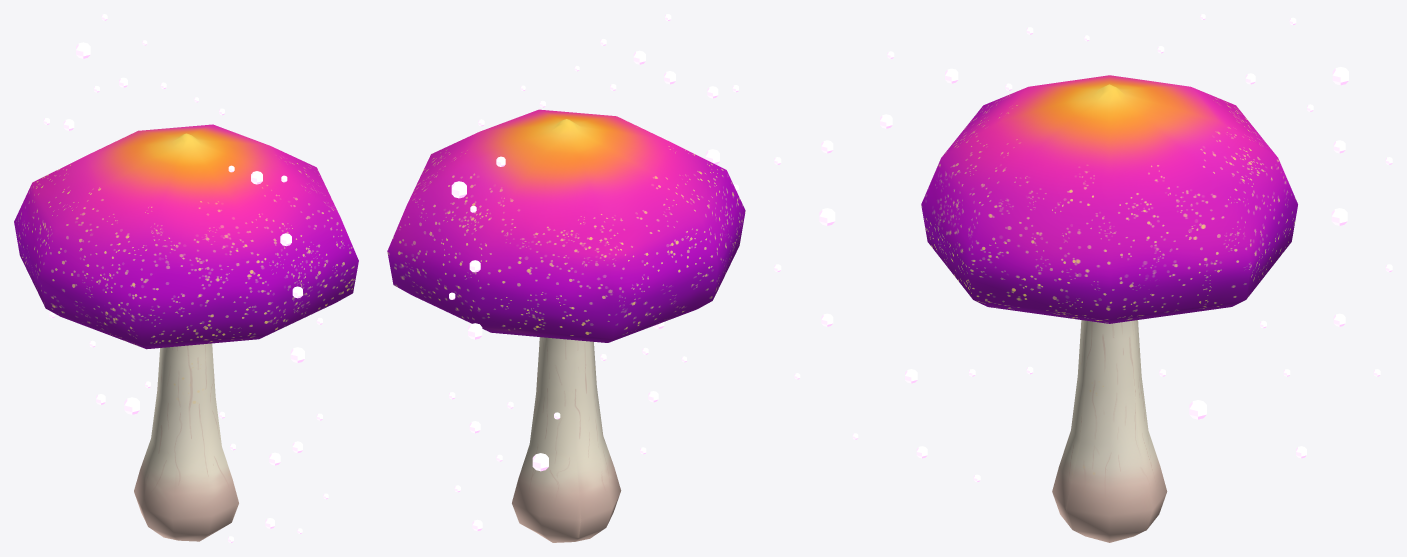
File: low_poly_glowing_mushroom.glb
3 renders of one model, left to right at view 1: azimuth 30°, elevation 25°; view 2: azimuth 150°, elevation 25°; view 3: azimuth 270°, elevation 25°, orthographic. The views are drawn at different scales.
Visible parts, largest first — view 1: Object_2, Object_3, Object_4; view 2: Object_2, Object_3, Object_4; view 3: Object_2, Object_3, Object_4.
Part boxes in pixels (left/top/right/bottom): Object_2: left=14, top=124, right=358, bottom=349; Object_3: left=134, top=343, right=238, bottom=541; Object_4: left=43, top=14, right=328, bottom=542; Object_2: left=387, top=109, right=745, bottom=342; Object_3: left=512, top=337, right=621, bottom=542; Object_4: left=449, top=14, right=738, bottom=531; Object_2: left=921, top=75, right=1297, bottom=323; Object_3: left=1052, top=320, right=1167, bottom=542; Object_4: left=774, top=14, right=1392, bottom=482.
Size of the model in its own units: 3.14 by 4.79 by 5.15.
3 materials, 2 textured.
